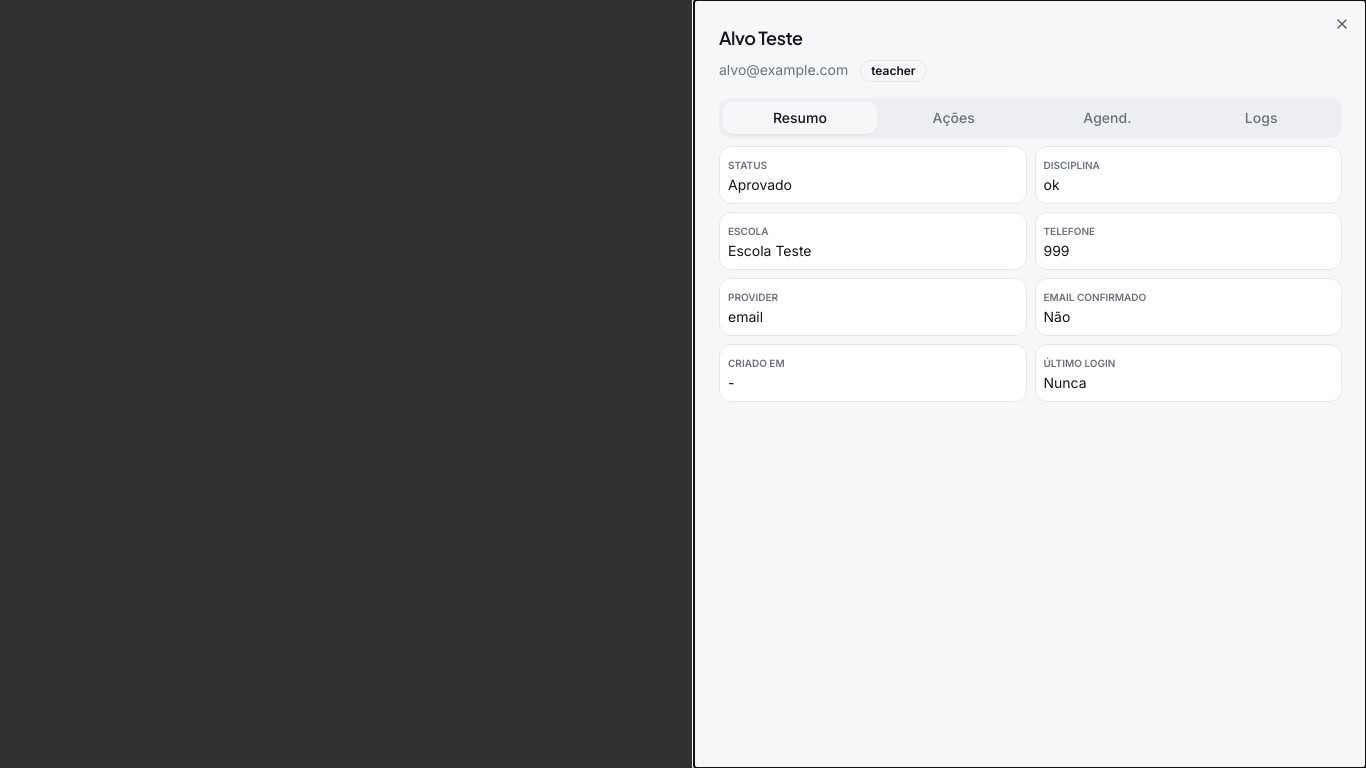
Scenario: UserDetailDrawer — fluxo auditado (motivo obrigatório) › Reprovar usuário chama admin_set_user_approval com _approved=false e _reason
Later steps or results of the test are not shown.
Expected: the text "alvo@example.com teacher" is shown, [719,60,927,82]
Click the tab "Ações".
click(954, 118)  # box [877,102,1031,134]
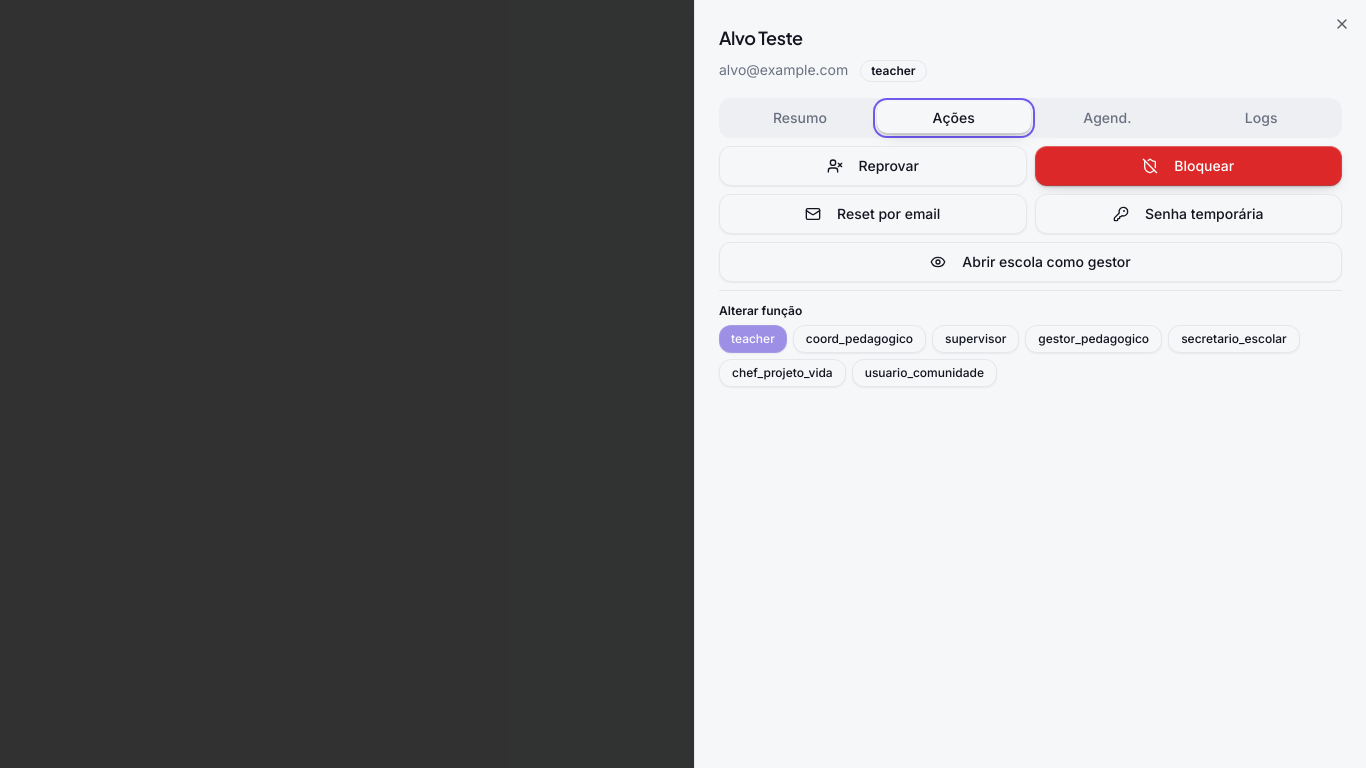
Now the panel named "Ações" is shown, box [719,146,1342,387]
Click the button "Reprovar".
click(873, 166)  # box [719,146,1026,186]
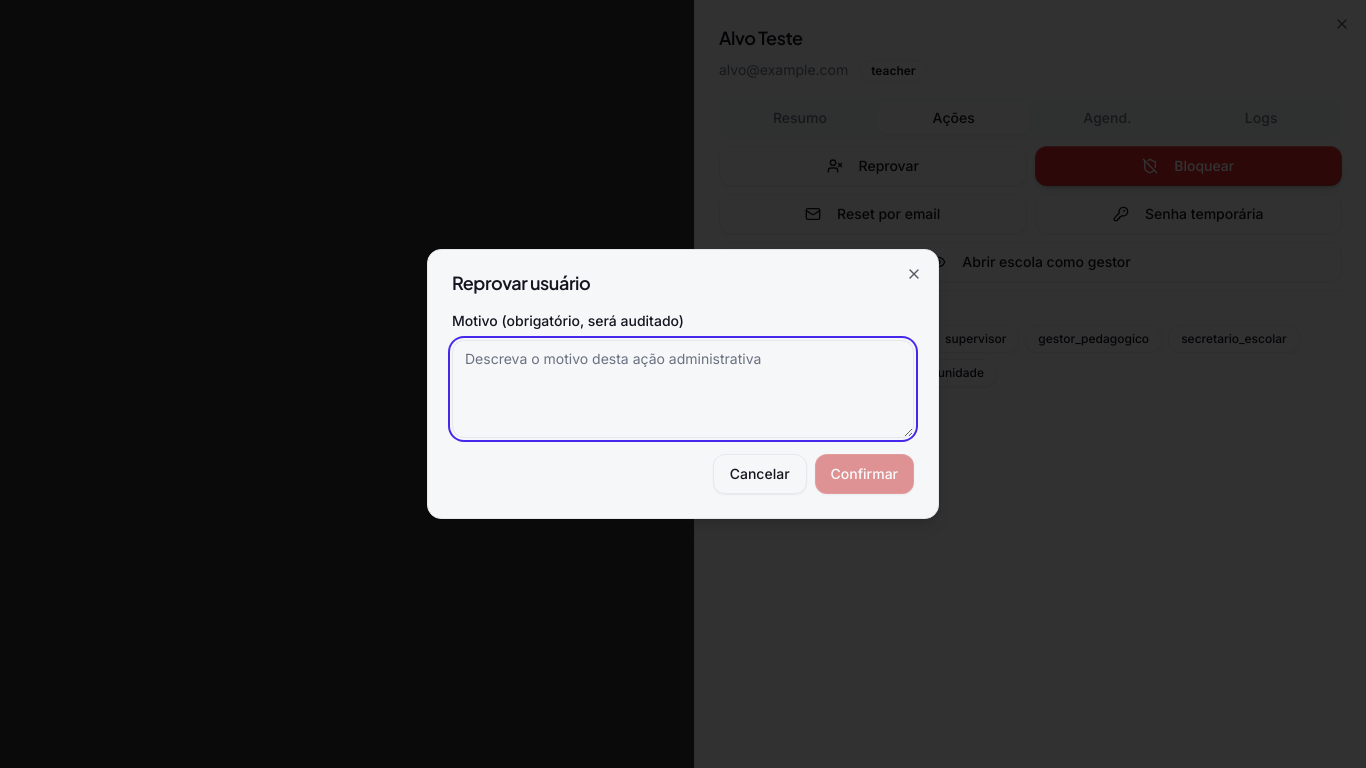
Type "Documento inválido recebido" into the text box with placeholder "Descreva o motivo desta ação administrativa".
click(683, 389); type("Documento inválido recebido")  # box [452,340,914,438]
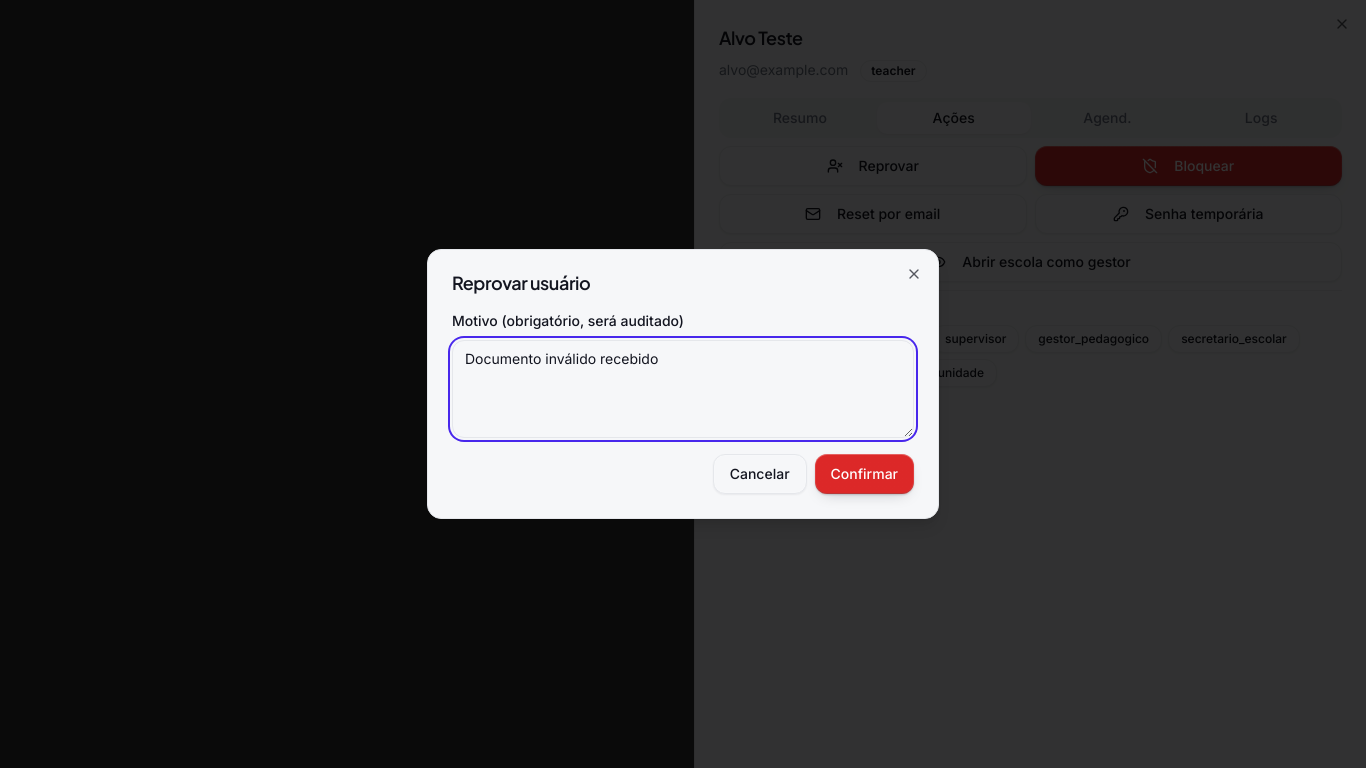
Now the button "Confirmar" is enabled, box [815,454,914,494]
